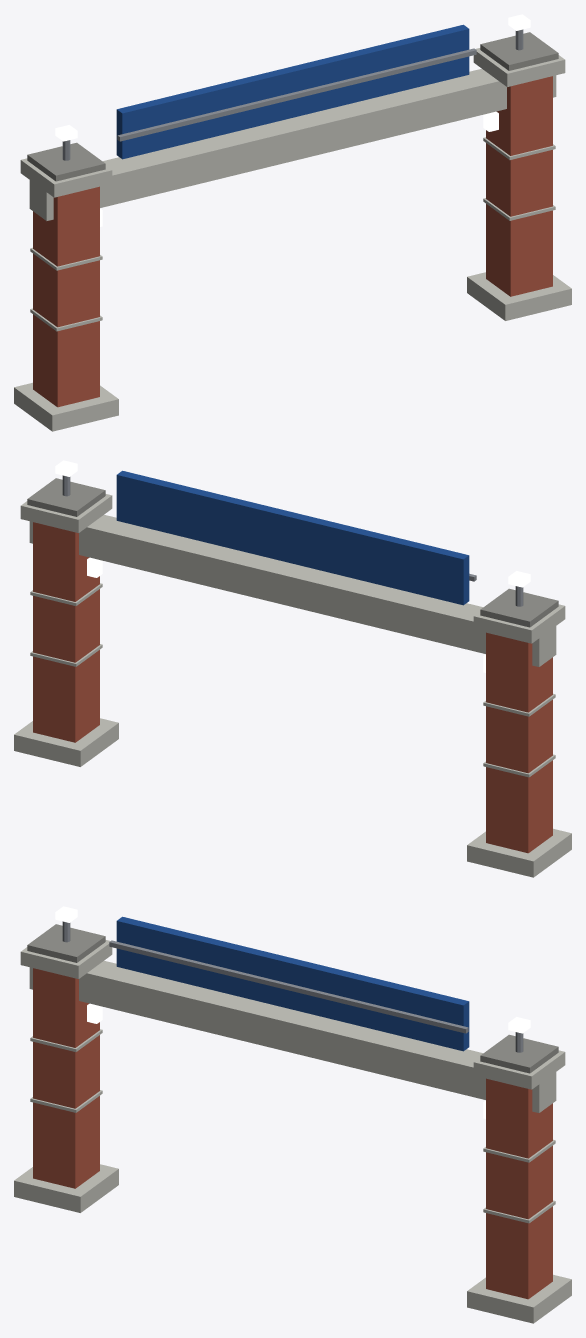
Rendered from camp_gate.glb.
The picture shows the model from 3 angles, top to bottom: view 1: azimuth 30°, elevation 25°; view 2: azimuth 150°, elevation 25°; view 3: azimuth 330°, elevation 25°; orthographic projection.
Visible parts, largest first — view 1: CampGate; view 2: CampGate; view 3: CampGate.
Part boxes in pixels (bbox=[...]): CampGate: bbox=[14, 14, 571, 431]; CampGate: bbox=[14, 460, 571, 877]; CampGate: bbox=[14, 906, 571, 1323].
Bounding box in the file's own units: 7.34 × 3.85 × 0.94.
